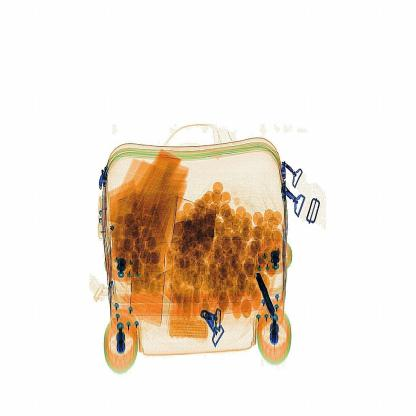knife: (250, 267, 282, 321)
